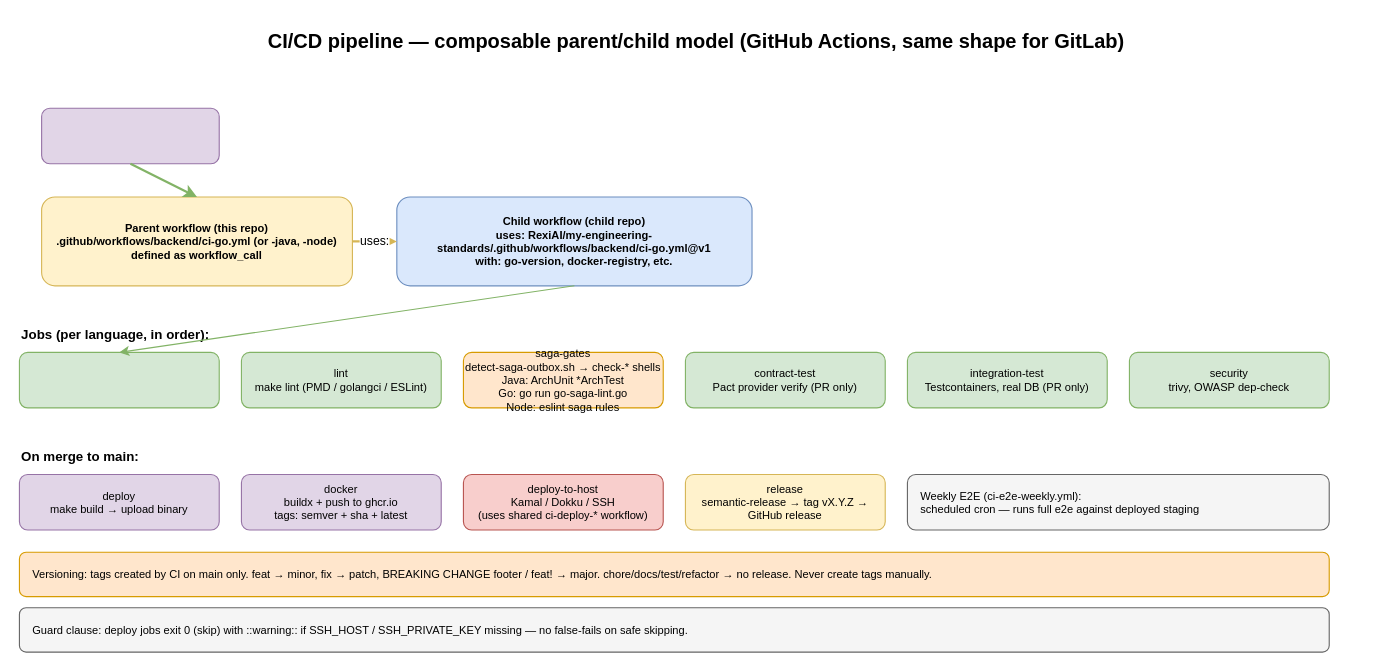
Some shapes in this 1393 by 672 pixel diagram are drawn without their labels. Each missing label, with the box of its shape:
PR opened / push to branch: (41, 107, 219, 164)
unit-test make test (Java: mvn test): (18, 351, 219, 408)
